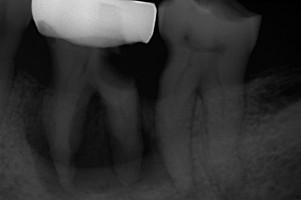Dental Caries: (21, 86, 165, 198)
